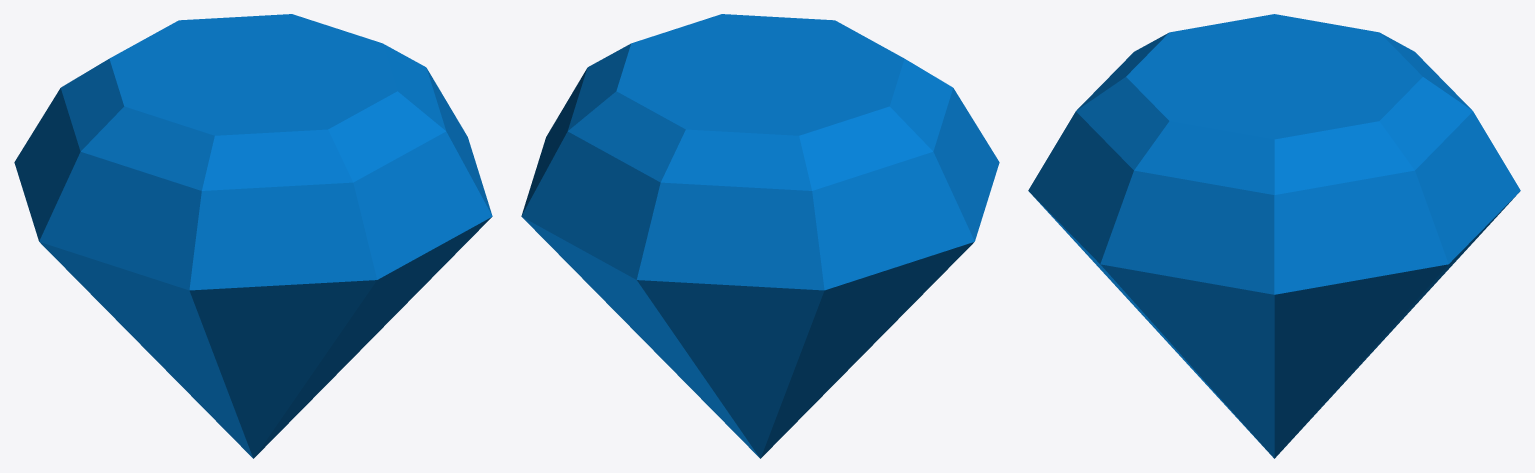
Rendered from Diamond.fbx.
The picture shows the model from 3 angles, left to right: view 1: azimuth 30°, elevation 25°; view 2: azimuth 150°, elevation 25°; view 3: azimuth 270°, elevation 25°; orthographic projection.
Visible parts, largest first — view 1: Cone; view 2: Cone; view 3: Cone.
Part boxes in pixels (left/top/right/bottom): Cone: left=14, top=14, right=492, bottom=458; Cone: left=521, top=14, right=999, bottom=458; Cone: left=1028, top=14, right=1520, bottom=458.
Size of the model in its own units: 880 by 753 by 880.
